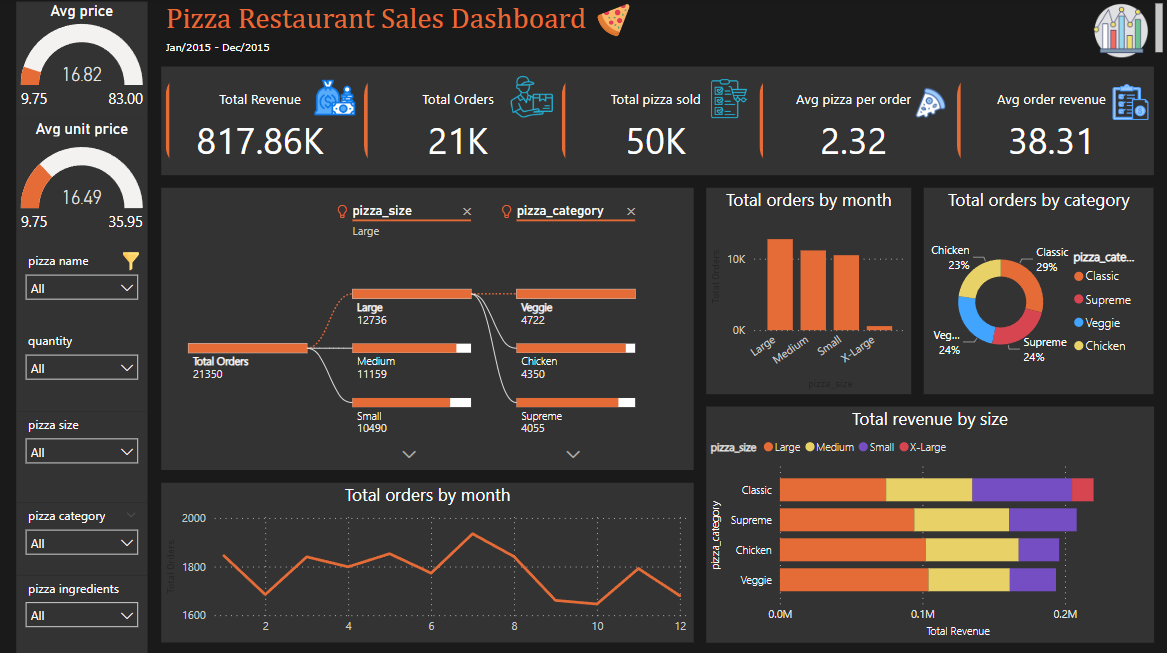

The dashboard page shown, as its layout file describes it:
{"tool":"powerbi","page":{"name":"Page 1","canvas":[1280,720],"ordinal":0},"visuals":[{"type":"cardVisual","fields":{"Data":["Calculations.Total Revenue","Calculations.Total Orders","Calculations.Total pizza sold","Calculations.Average pizza per order","Calculations.Average order revenue"]},"box":[176.9,74,1088.6,119.3],"z":0},{"type":"textbox","box":[176.9,0,1103.7,64.4],"z":1000},{"type":"image","box":[506.7,0,330.4,47],"z":2000},{"type":"slicer","fields":{"Values":["pizza_sales.pizza_size"]},"box":[17.8,452.4,144,100.1],"z":3000},{"type":"slicer","fields":{"Values":["pizza_sales.pizza_name"]},"box":[17.8,552.5,144,79.5],"z":4000},{"type":"slicer","fields":{"Values":["pizza_sales.pizza_name"]},"box":[17.8,272.8,144,87.7],"z":5000},{"type":"slicer","fields":{"Values":["pizza_sales.quantity"]},"box":[17.8,360.6,144,91.9],"z":6000},{"type":"slicer","fields":{"Values":["pizza_sales.pizza_name"]},"box":[17.8,632.1,144,87.7],"z":7000},{"type":"image","box":[760.9,82.3,76.8,53.5],"z":9000},{"type":"image","box":[551.2,78.1,64.4,57.6],"z":10000},{"type":"image","box":[124.8,272.8,37,30.2],"z":11000},{"type":"image","box":[340,71.3,54.8,72.7],"z":12000},{"type":"image","box":[1214.7,82.3,50.7,61.7],"z":13000},{"type":"image","box":[999.5,91.9,42.5,43.9],"z":14000},{"type":"gauge","title":"Avg price","fields":{"MinValue":["Min(pizza_sales.total_price)2"],"MaxValue":["Max(pizza_sales.total_price)"],"Y":["Avg(pizza_sales.total_price)"]},"box":[17.8,2.7,144,128.9],"z":16000},{"type":"gauge","title":"Avg unit price","fields":{"MaxValue":["Max(pizza_sales.unit_price)"],"Y":["Avg(pizza_sales.unit_price)2"],"MinValue":["Min(pizza_sales.unit_price)"]},"box":[17.8,131.6,144,141.2],"z":16001},{"type":"lineChart","title":"Total orders by month","fields":{"Category":["pizza_sales.Order Month"],"Y":["Calculations.Total Orders"]},"box":[176.9,530.6,584.1,175.5],"z":16002},{"type":"columnChart","title":"Total orders by month","fields":{"Category":["pizza_sales.pizza_size"],"Y":["Calculations.Total Orders"]},"box":[774.6,207,224.9,226.2],"z":16003},{"type":"donutChart","title":"Total orders by category","fields":{"Category":["pizza_sales.pizza_category"],"Y":["Calculations.Total Orders"]},"box":[1013.2,207,252.3,226.2],"z":16004},{"type":"decompositionTreeVisual","title":"Total orders by month","fields":{"Analyze":["Calculations.Total Orders"],"ExplainBy":["pizza_sales.pizza_size","pizza_sales.pizza_category"]},"box":[176.9,207,584.1,309.9],"z":16006},{"type":"barChart","title":"Total revenue by size","fields":{"Y":["Calculations.Total Revenue"],"Category":["pizza_sales.pizza_category"],"Series":["pizza_sales.pizza_size"]},"box":[774.6,447,490.8,259.1],"z":16007},{"type":"image","box":[1192.8,0,72.7,69.9],"z":16008}]}

Visuals, with their boxes in screenshot pixels (x1, y1, x2, y2), scaled from the page's 1280x720 canvas onto the 1167x653 screenshot:
cardVisual - Calculations.Total Revenue x Calculations.Total Orders: bbox=(161, 67, 1154, 175)
textbox: bbox=(161, 0, 1166, 58)
image: bbox=(462, 0, 763, 43)
slicer - pizza_sales.pizza_size: bbox=(16, 410, 148, 501)
slicer - pizza_sales.pizza_name: bbox=(16, 501, 148, 573)
slicer - pizza_sales.pizza_name: bbox=(16, 247, 148, 327)
slicer - pizza_sales.quantity: bbox=(16, 327, 148, 410)
slicer - pizza_sales.pizza_name: bbox=(16, 573, 148, 652)
image: bbox=(694, 75, 764, 123)
image: bbox=(503, 71, 561, 123)
image: bbox=(114, 247, 148, 275)
image: bbox=(310, 65, 360, 131)
image: bbox=(1107, 75, 1154, 131)
image: bbox=(911, 83, 950, 123)
"Avg price" gauge: bbox=(16, 2, 148, 119)
"Avg unit price" gauge: bbox=(16, 119, 148, 247)
"Total orders by month" lineChart: bbox=(161, 481, 694, 640)
"Total orders by month" columnChart: bbox=(706, 188, 911, 393)
"Total orders by category" donutChart: bbox=(924, 188, 1154, 393)
"Total orders by month" decompositionTreeVisual: bbox=(161, 188, 694, 469)
"Total revenue by size" barChart: bbox=(706, 405, 1154, 640)
image: bbox=(1087, 0, 1154, 63)
